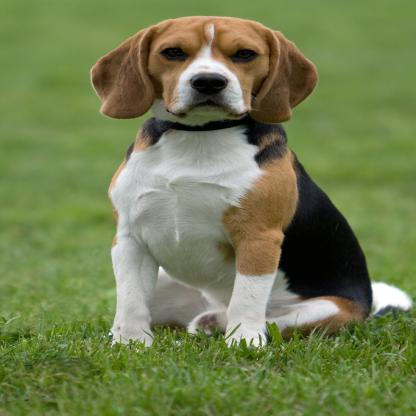Bigl: (88, 13, 416, 352)
